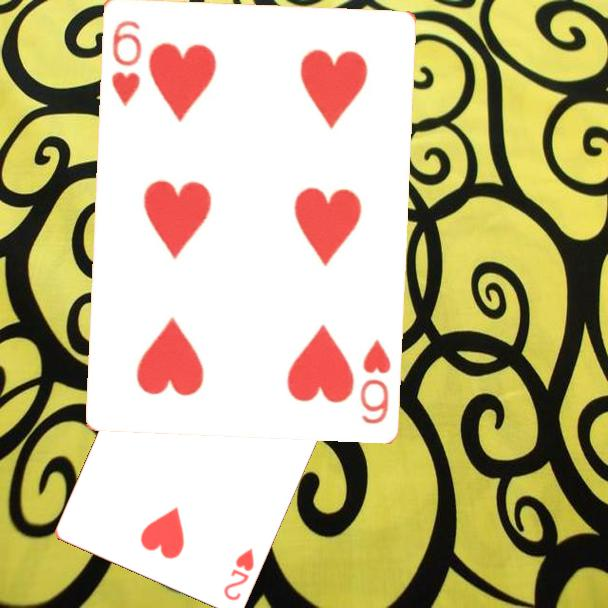h02: (220, 545, 257, 604)
h06: (356, 335, 393, 426), (108, 16, 144, 109)
